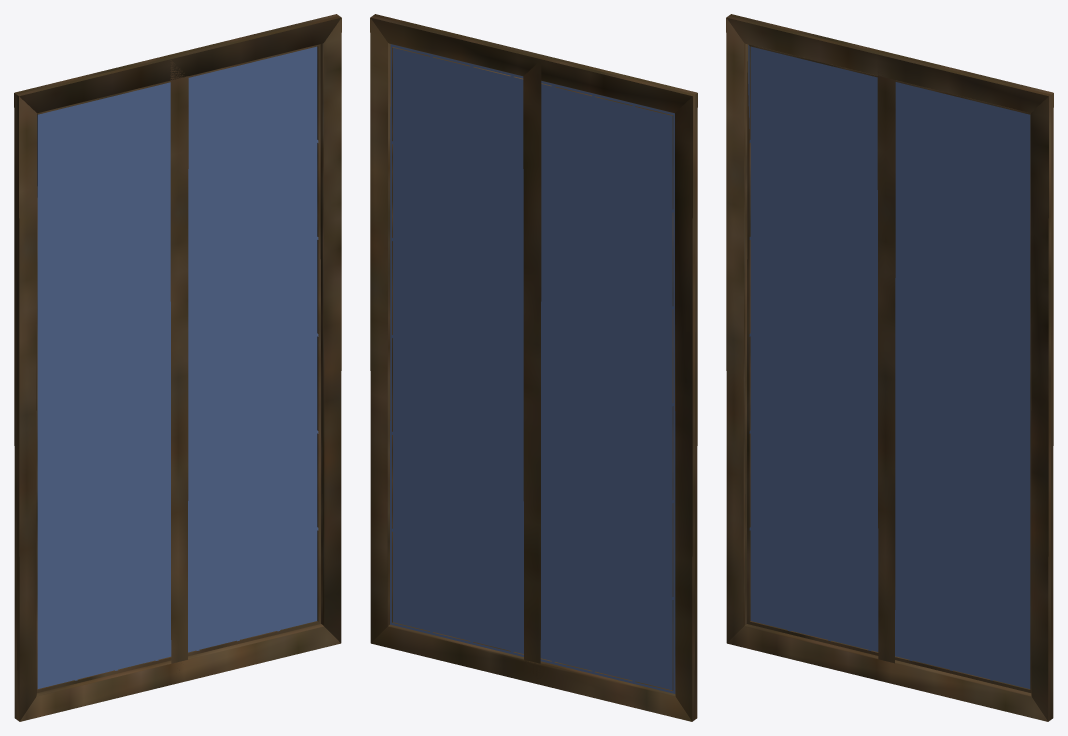
File: window.obj
3 views of the same model, side by side, from view 1: azimuth 30°, elevation 25°; view 2: azimuth 150°, elevation 25°; view 3: azimuth 330°, elevation 25° (orthographic).
Visible parts, largest first — view 1: Plane, Line040; view 2: Plane.001_Plane.004, Line040; view 3: Plane, Line040.
Boxes of the visible parts, x1,y1,x2,y2 form: Plane: [37, 46, 318, 688]; Line040: [14, 14, 341, 721]; Plane.001_Plane.004: [390, 45, 675, 693]; Line040: [370, 14, 697, 721]; Plane: [748, 45, 1030, 688]; Line040: [726, 14, 1053, 721].
Size of the model in its own units: 112 by 207 by 2.94.
2 materials, 1 textured.
